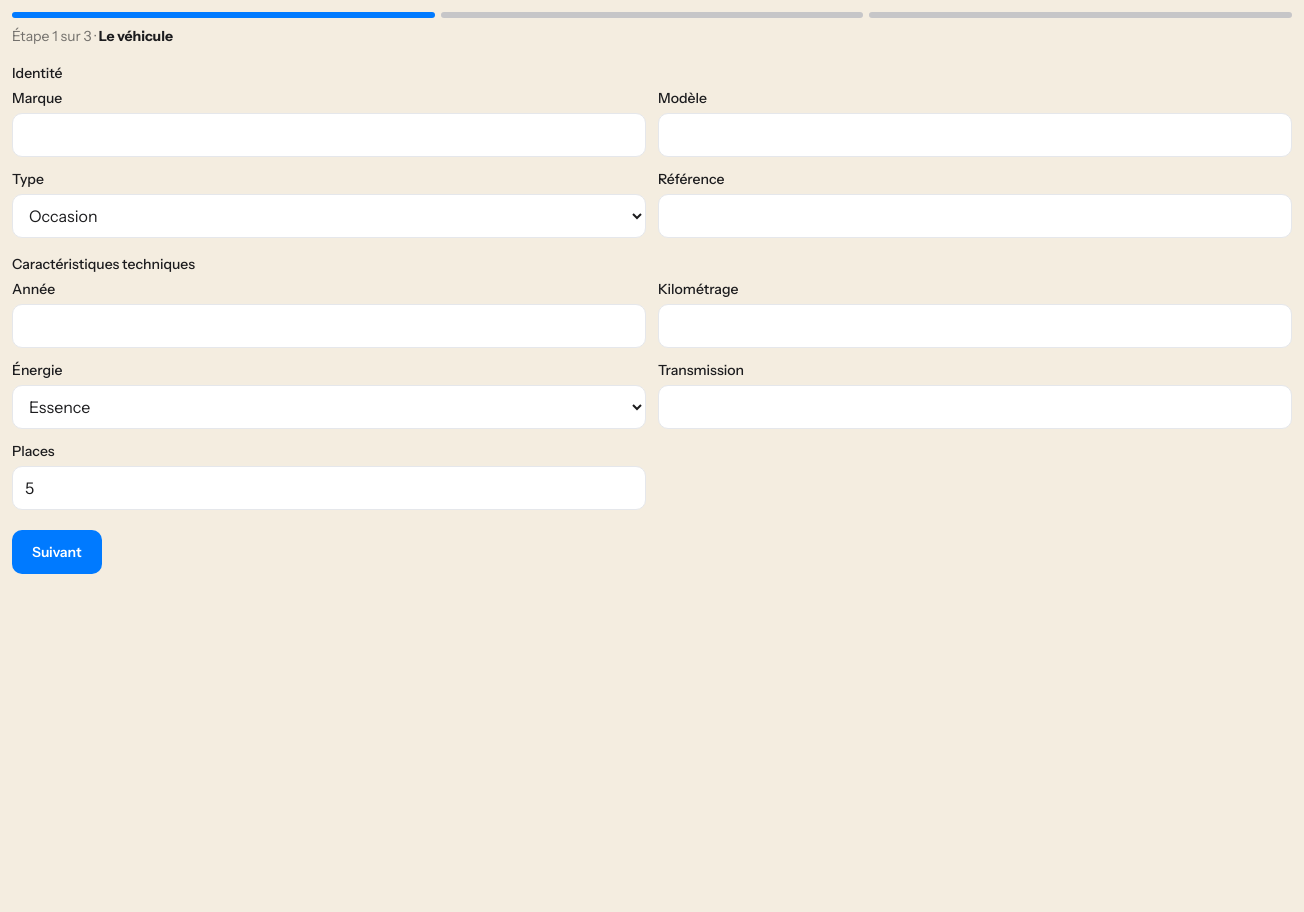
Scenario: fiches du BO par étapes › « Suivant » refuse d’avancer tant qu’un champ obligatoire de l’étape est vide
Click the button "Suivant" at (57, 552), box [12, 530, 102, 574]
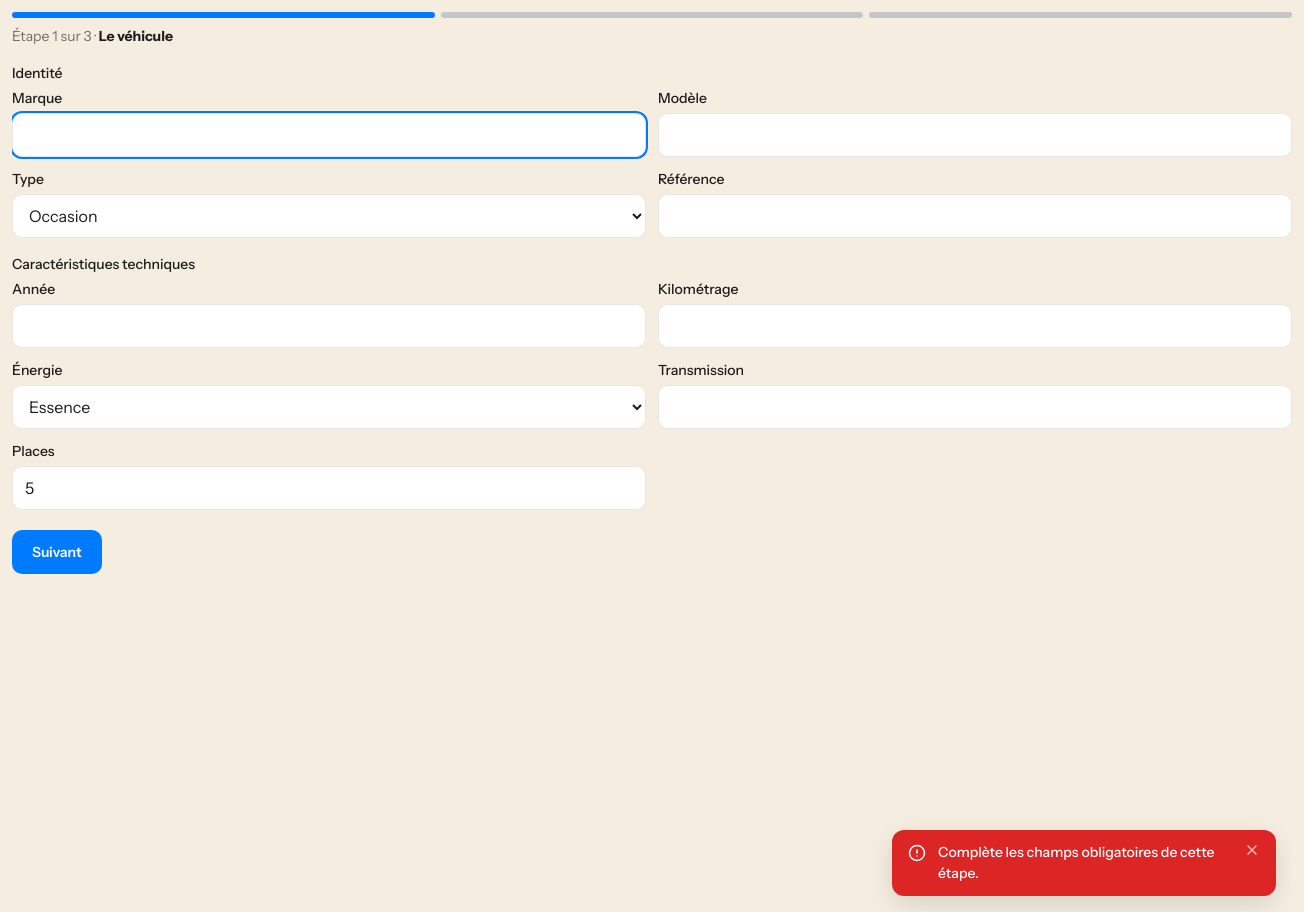
Expected: the text "Étape 1 sur 3 · Le véhicule" is shown, [12, 27, 173, 45]
Now the text "Complète les champs obligatoires de cette étape." is shown, box [938, 842, 1232, 884]
